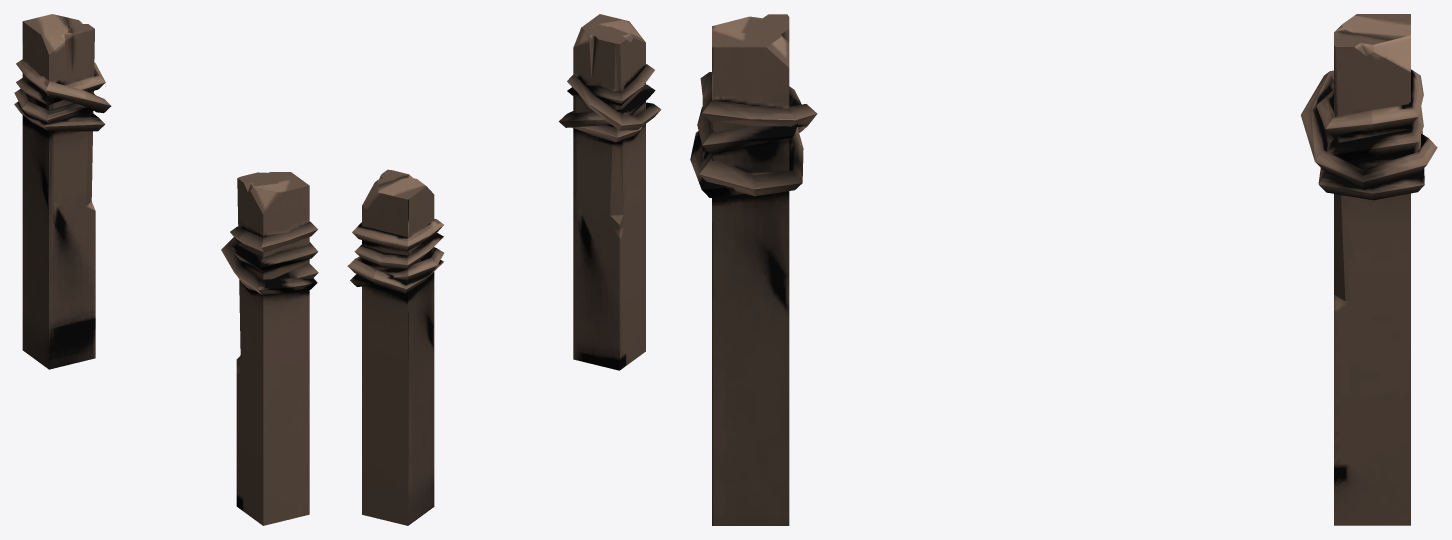
Rendered from Bridge_Fence2.fbx.
3 views of the same model, side by side, from view 1: azimuth 30°, elevation 25°; view 2: azimuth 150°, elevation 25°; view 3: azimuth 270°, elevation 25° (orthographic). The views are drawn at different scales.
Visible parts, largest first — view 1: SM_Bridge_03_01.mo; view 2: SM_Bridge_03_01.mo; view 3: SM_Bridge_03_01.mo.
Part boxes in pixels (<box>): SM_Bridge_03_01.mo: <box>14,14,318,525</box>; SM_Bridge_03_01.mo: <box>347,14,661,525</box>; SM_Bridge_03_01.mo: <box>690,14,1437,525</box>.
Size of the model in its own units: 36.81 by 150 by 213.
Materials: 2 (2 with a texture image).
